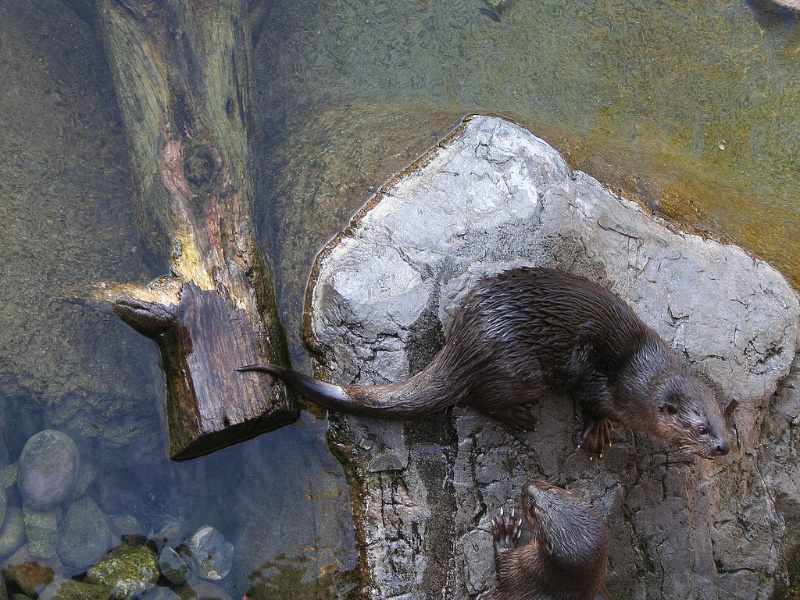minkish: (239, 267, 741, 483), (489, 480, 617, 600)
